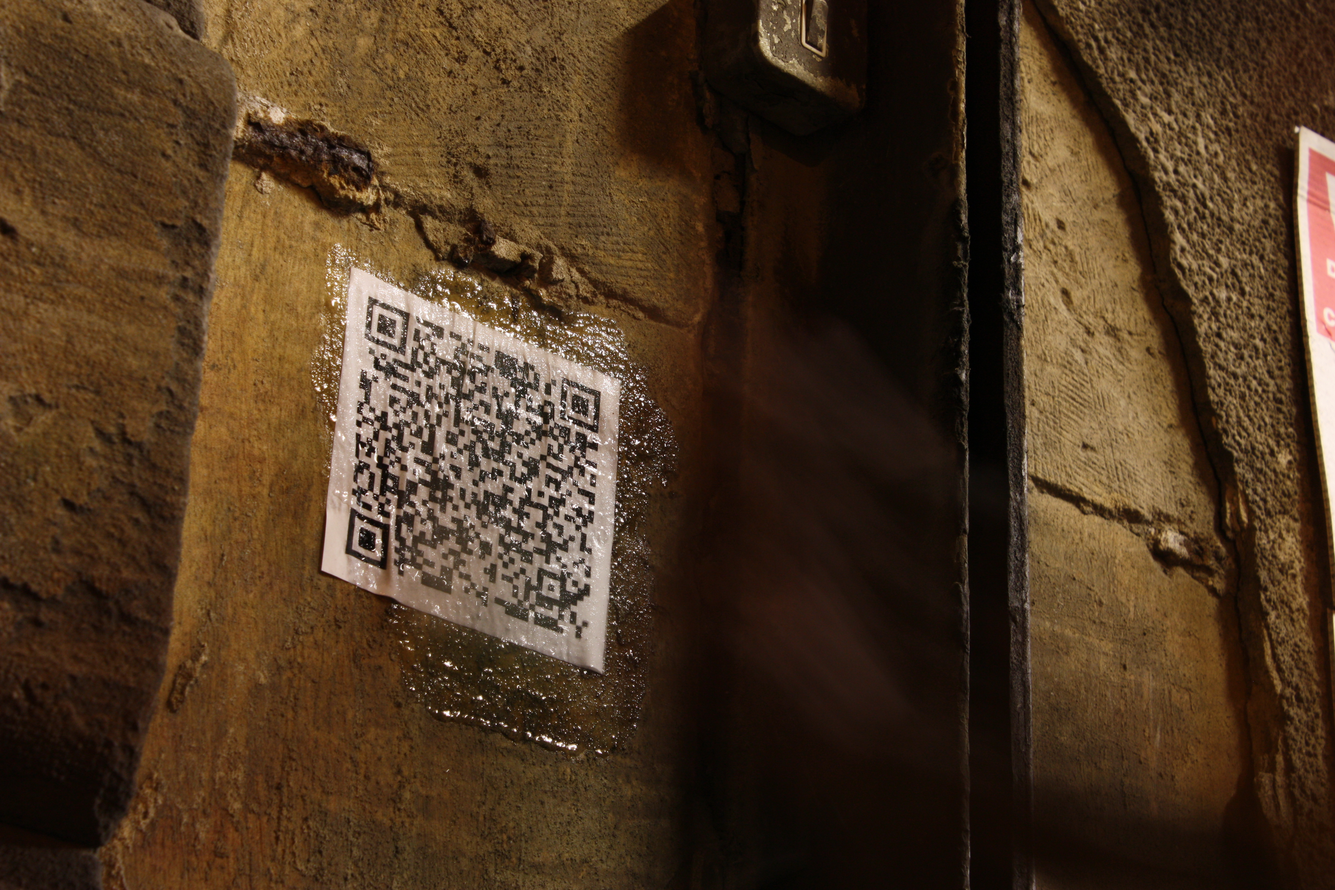QR-CODE: (345, 296, 601, 639)
